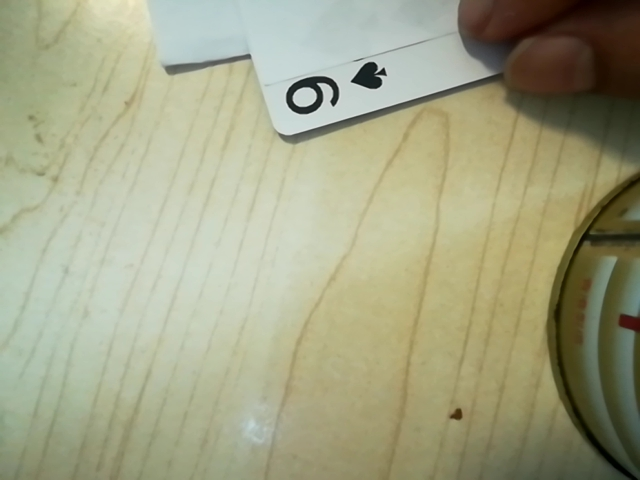ht 9: (273, 49, 405, 130)
